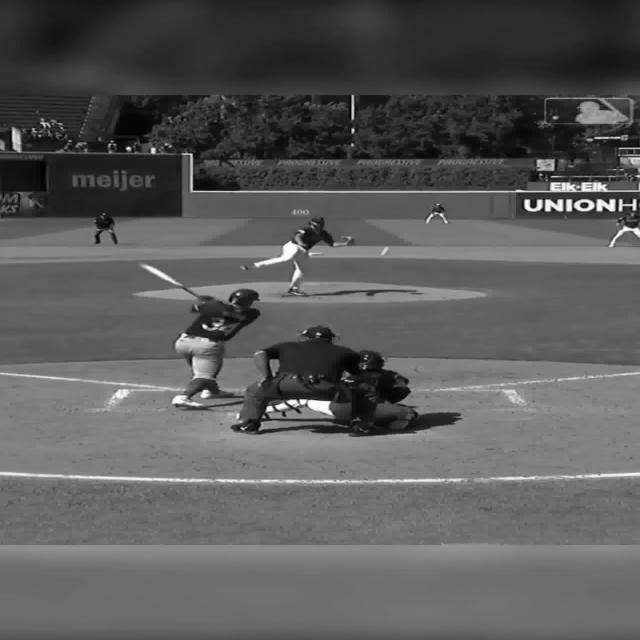baseball: (379, 247, 389, 256), (239, 265, 247, 270)
baseball_glove: (339, 236, 353, 244)
bat: (139, 263, 199, 298)
shoe: (170, 394, 204, 409), (230, 419, 260, 434), (348, 419, 374, 436), (200, 388, 233, 398), (286, 288, 308, 296), (239, 262, 259, 270)
